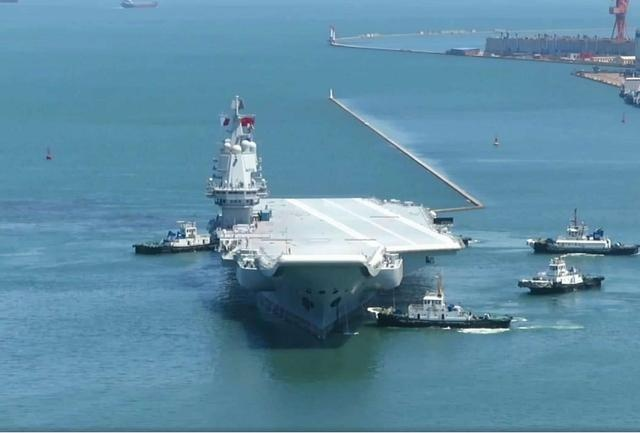otherboat: (370, 277, 512, 330), (524, 210, 640, 255), (515, 250, 608, 294), (130, 216, 221, 259)
warship: (203, 94, 470, 353)
